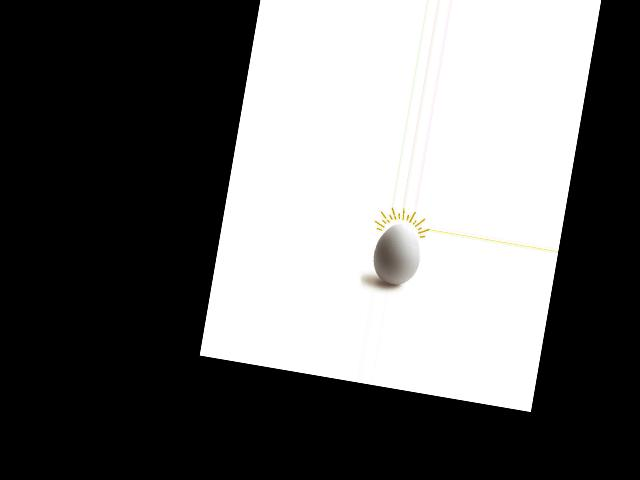egg: (370, 221, 425, 288)
